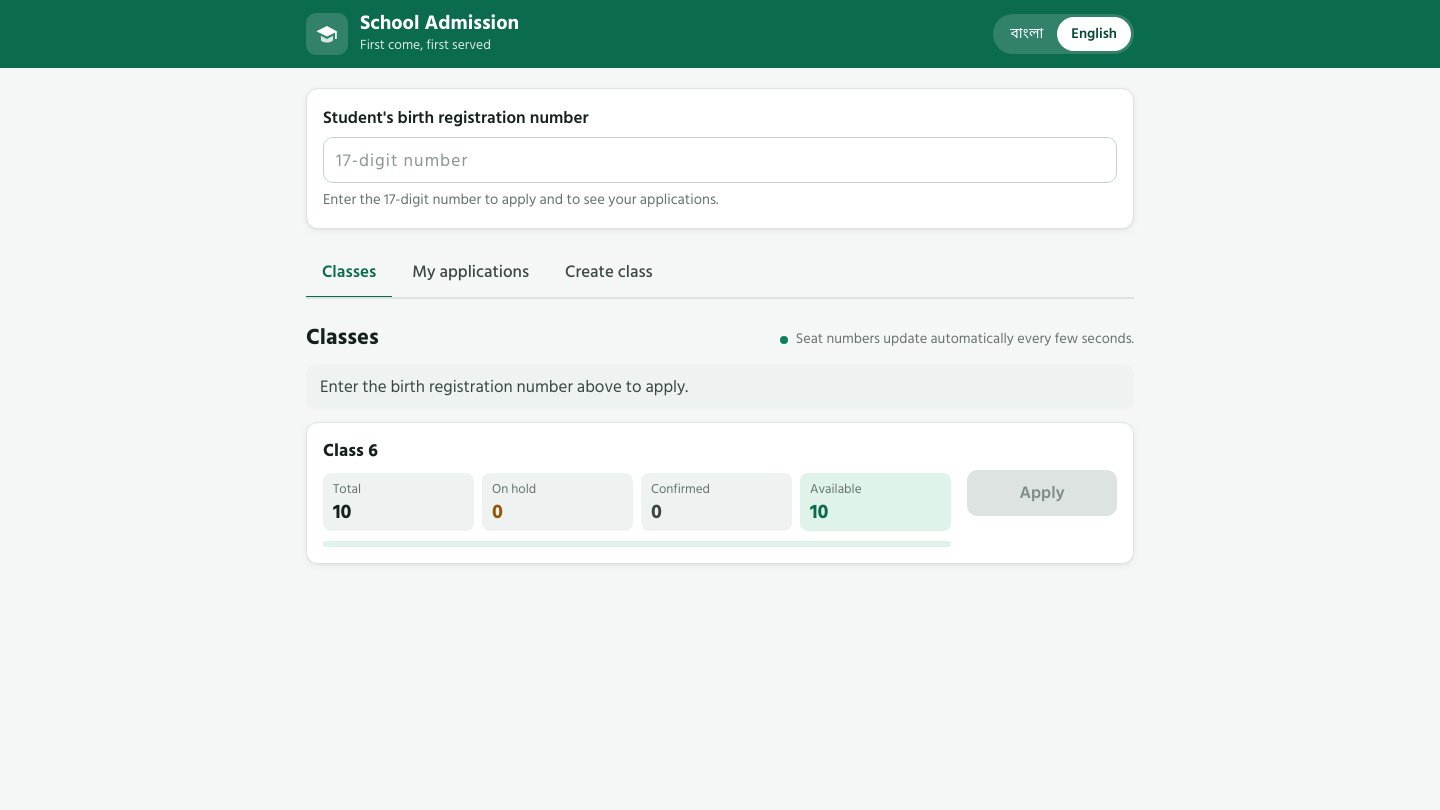
class list › only lets a student apply after a full 17-digit number is entered
This screenshot has width=1440, height=810.
Expected: the button "Apply" is disabled, x1=967 y1=470 x2=1117 y2=516
Type "2015269123" into the field labelled "Student's birth registration number". click: point(720, 160)
box: x1=323 y1=137 x2=1117 y2=183
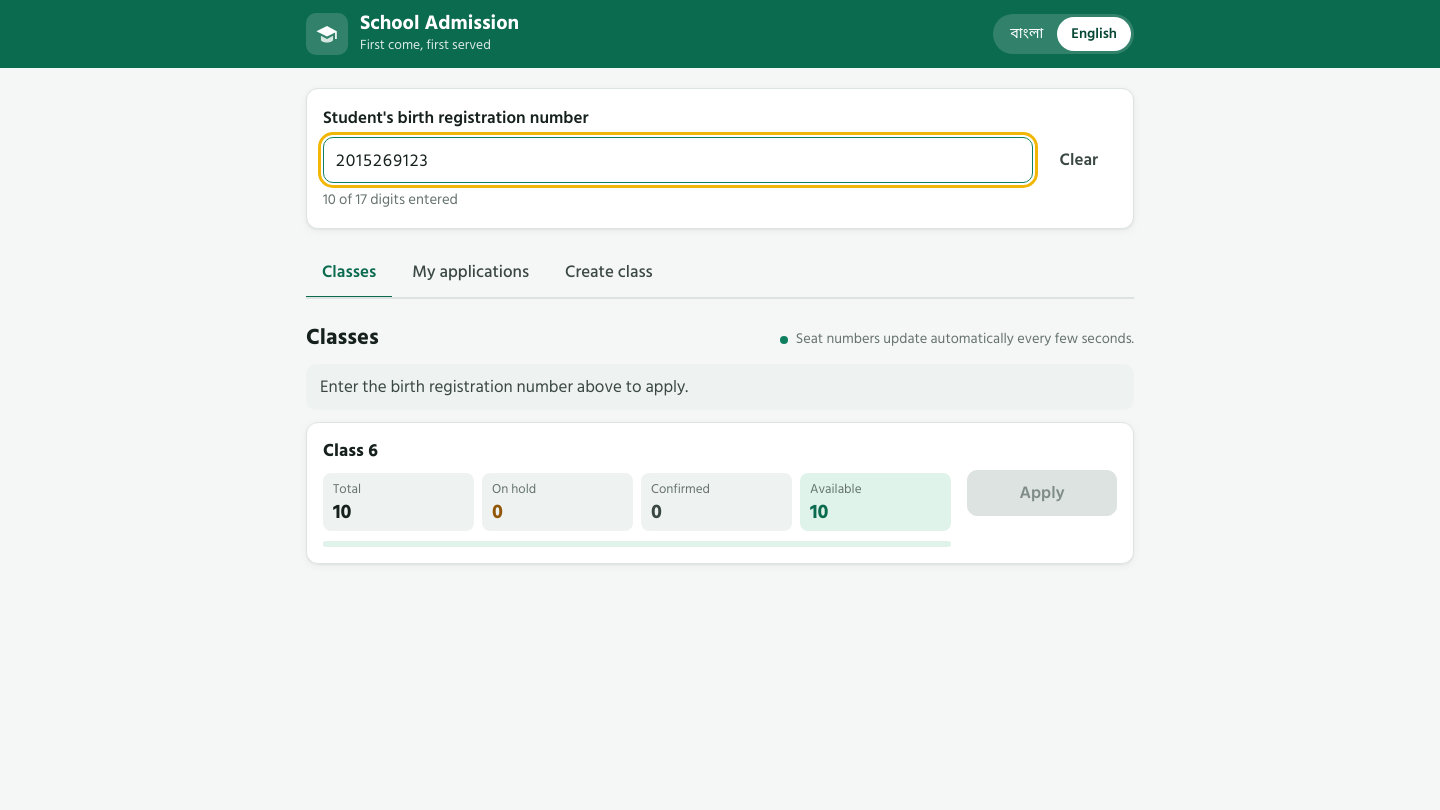
Expected: the button "Apply" is disabled, x1=967 y1=470 x2=1117 y2=516
Now the text "10 of 17 digits entered" is shown, box x1=323 y1=188 x2=458 y2=211
Type "4567890" into the field labelled "Student's birth registration number". click: point(678, 160)
box: x1=323 y1=137 x2=1033 y2=183
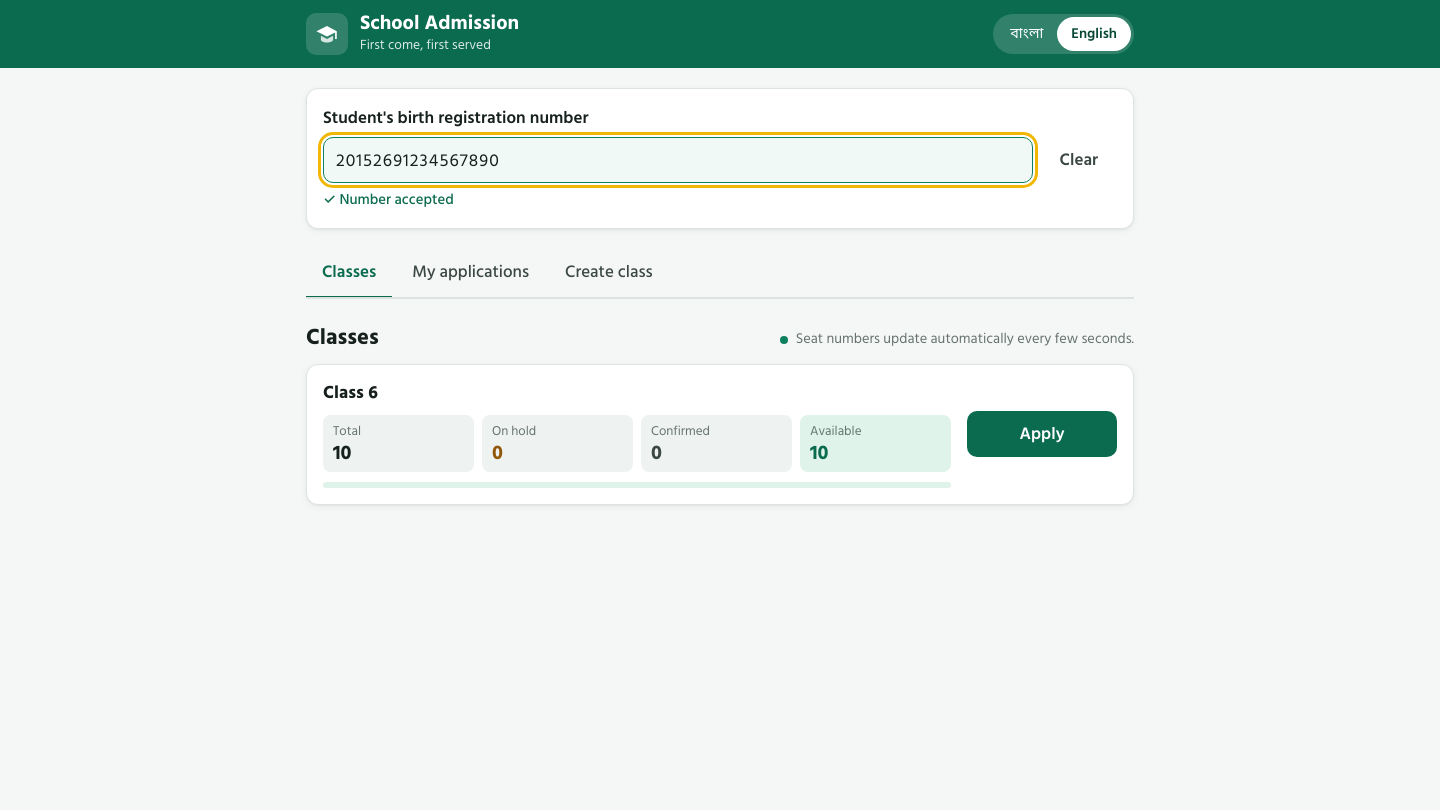
Now the button "Apply" is enabled, box x1=967 y1=411 x2=1117 y2=457
Now the text "✓ Number accepted" is shown, box x1=323 y1=188 x2=454 y2=211
